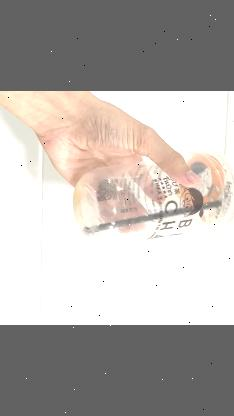Others: (77, 141, 234, 242)
